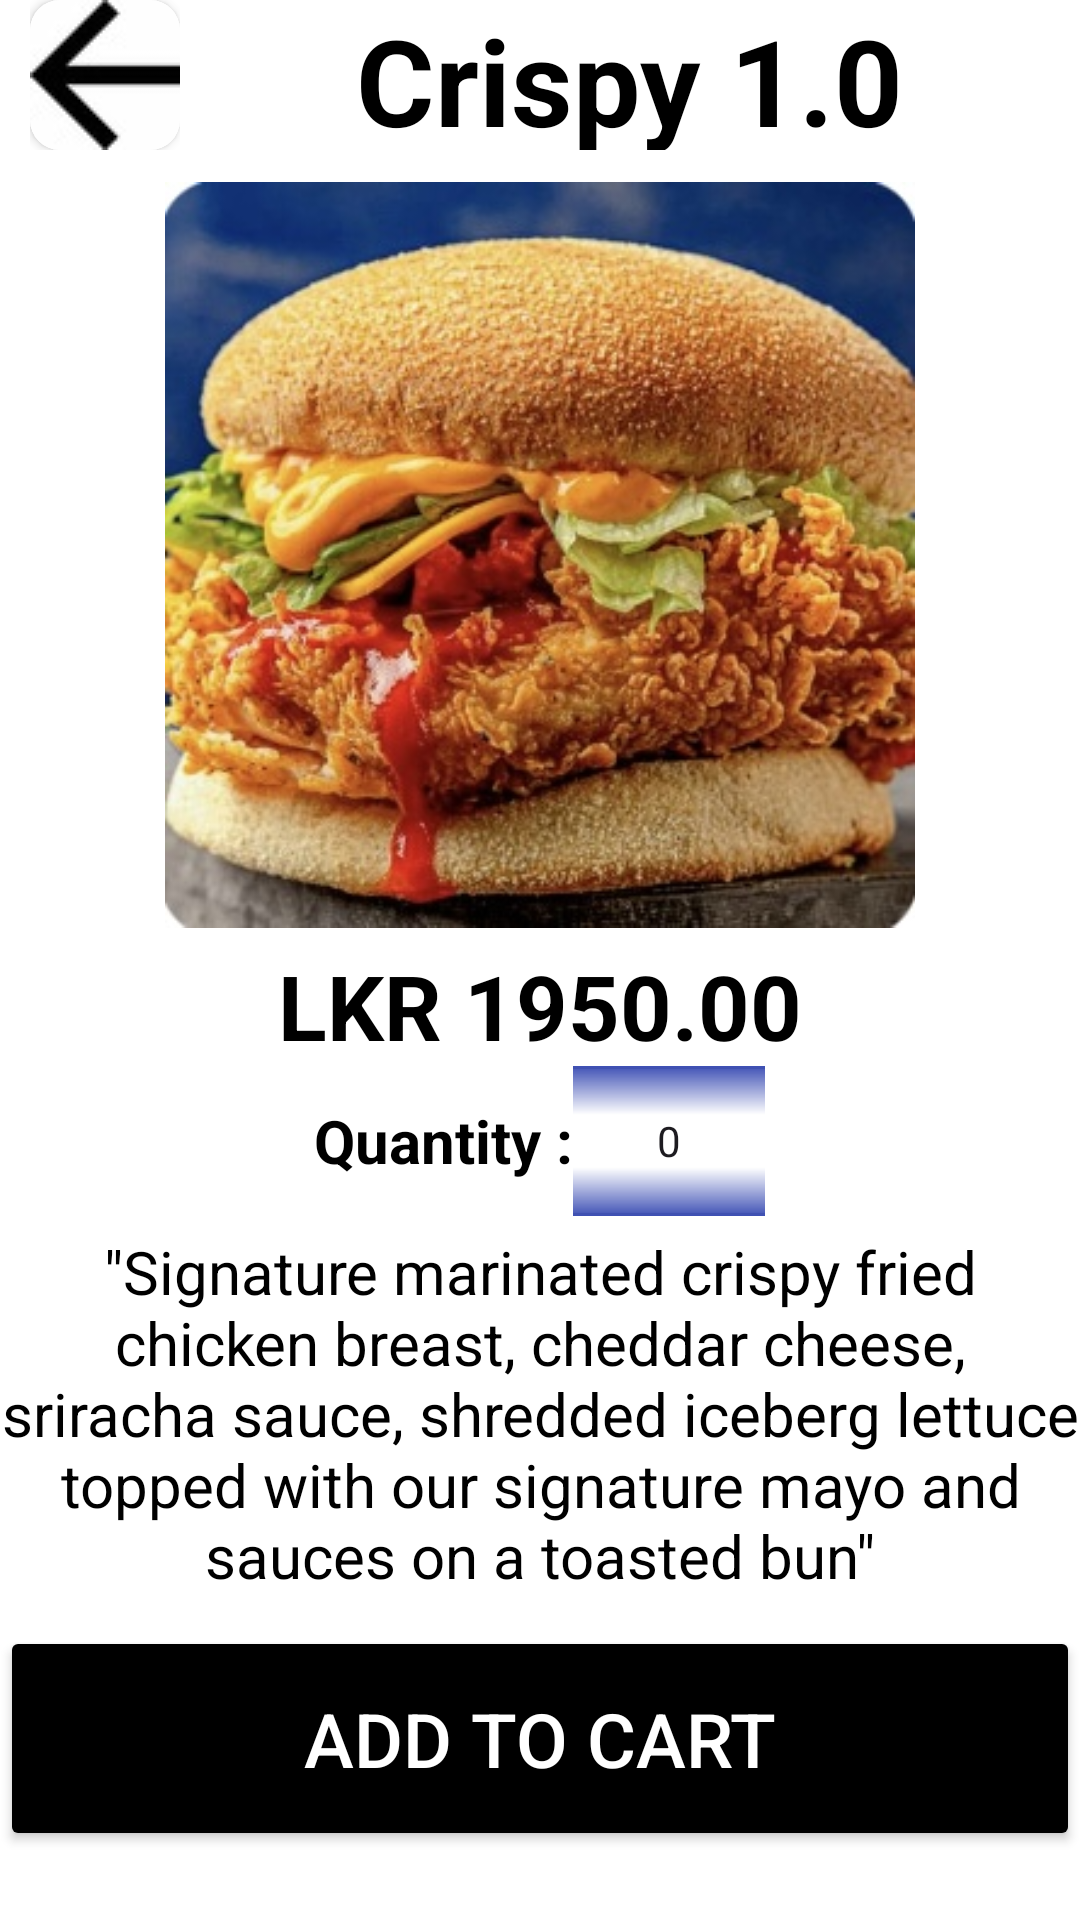

Locate icon controls on the screen. Image size 1080px x 1920px, boxes as (x1, y1, x2, y2).
back: (30, 0, 180, 150)
